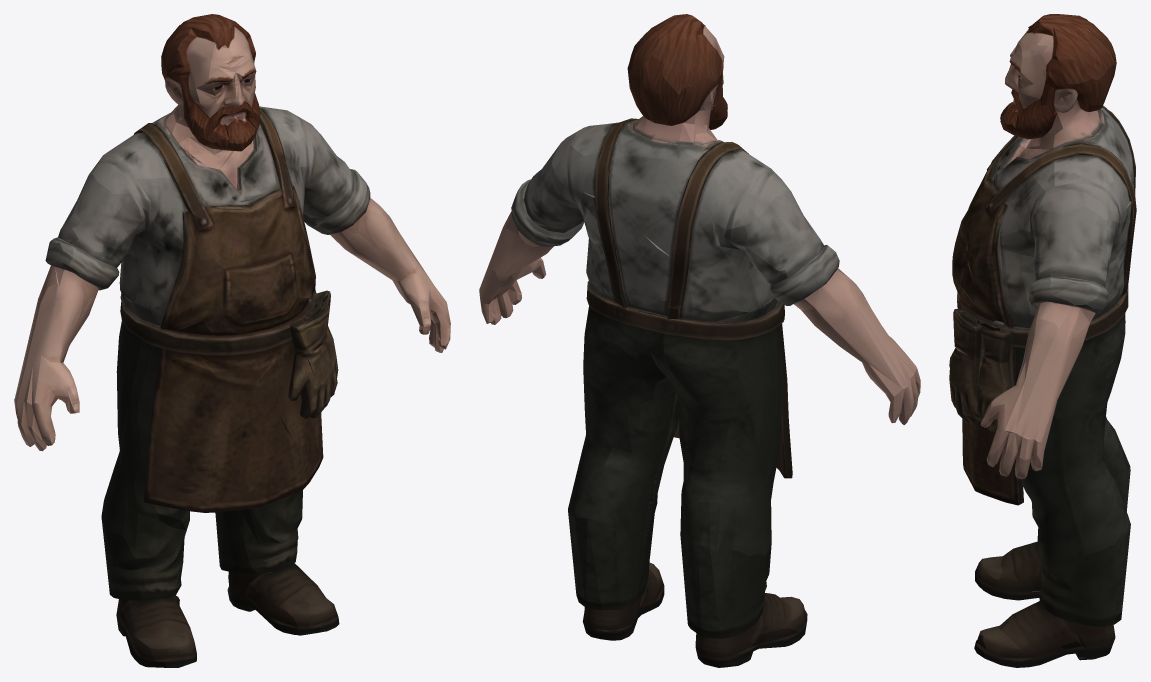
File: MW_Blacksmith.glb
3 views of the same model, side by side, from view 1: azimuth 30°, elevation 25°; view 2: azimuth 150°, elevation 25°; view 3: azimuth 270°, elevation 25° (orthographic).
Size of the model in its own units: 1.39 by 1.9 by 0.5323.
1 material, 1 textured.
